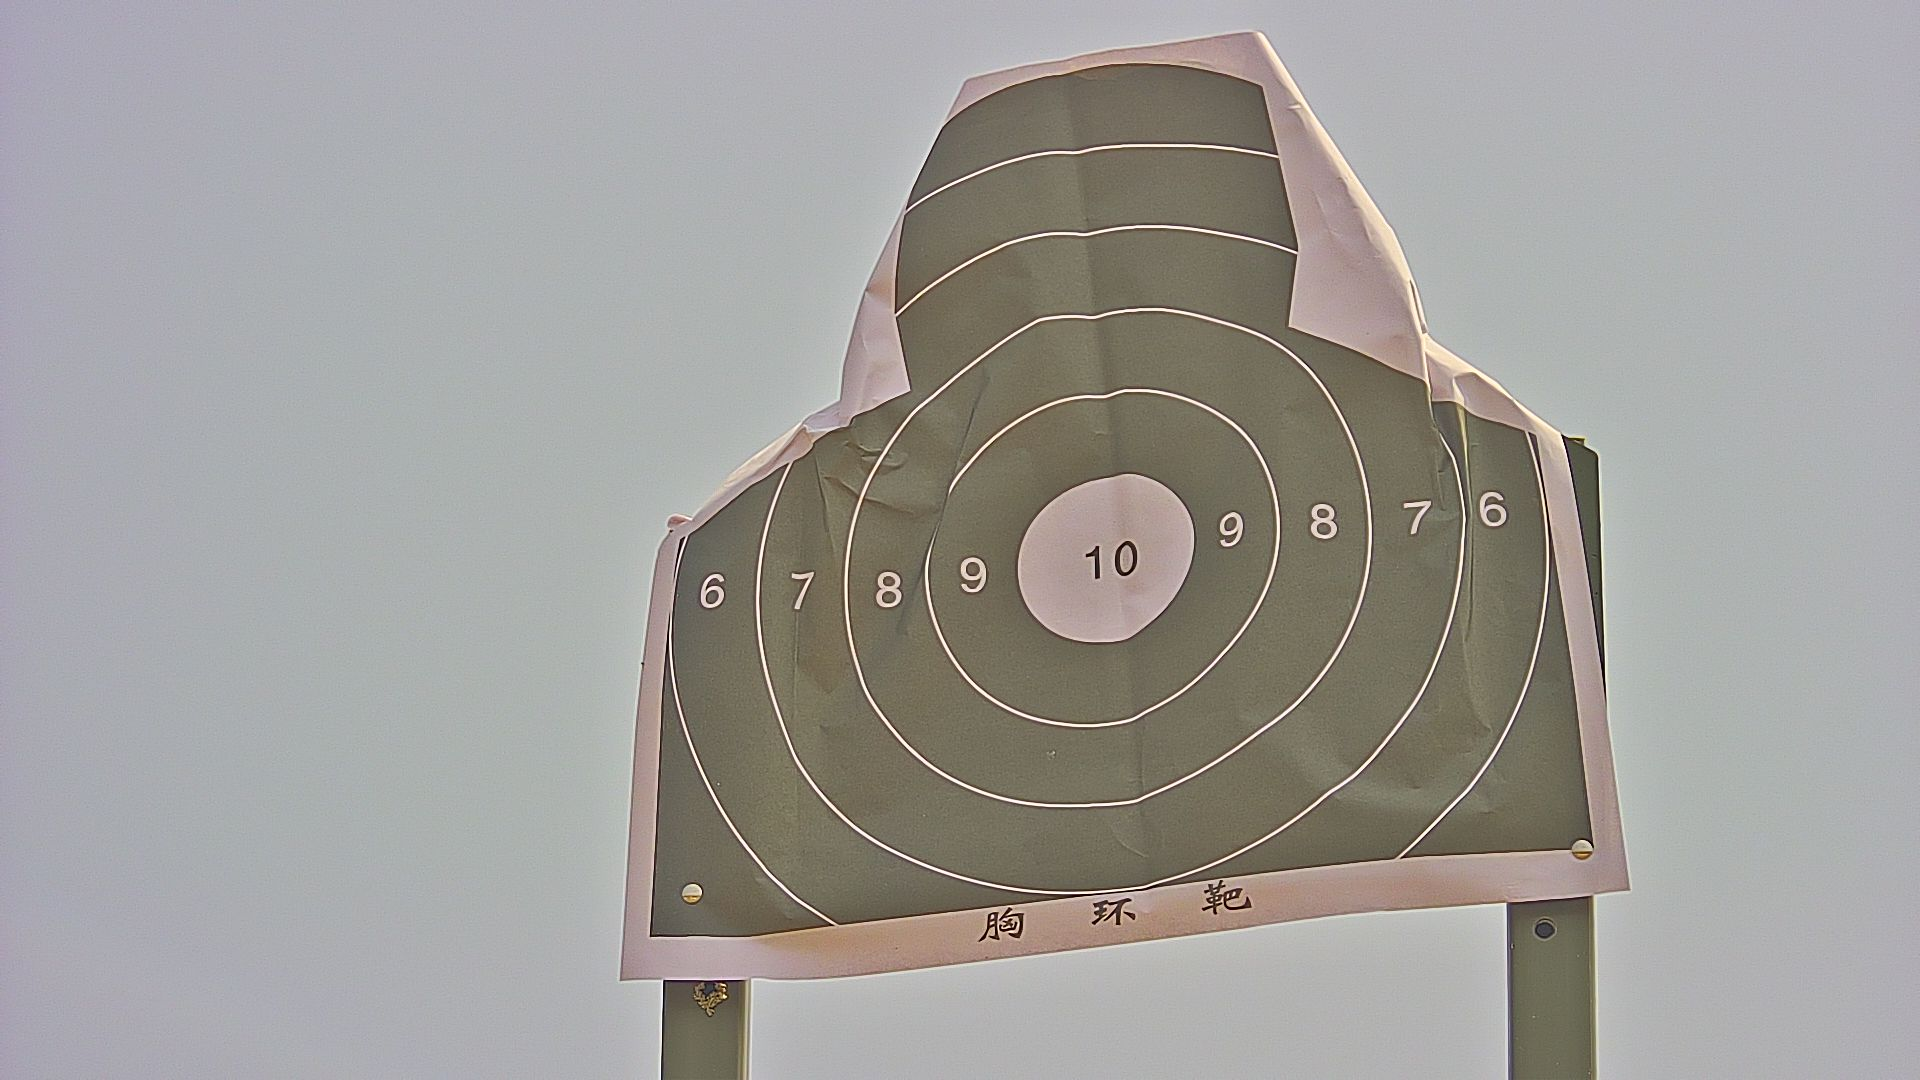kernel: (1104, 559, 1113, 563)
target: (651, 61, 1593, 968)
ten: (1017, 471, 1197, 644)
